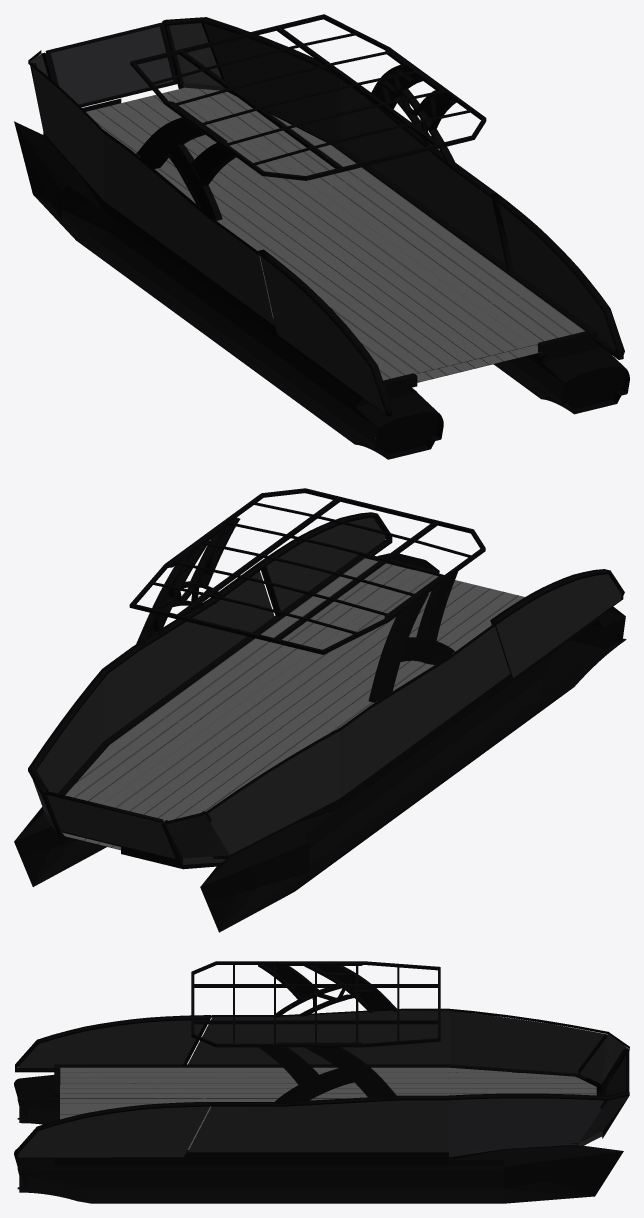
3 views of the same model, one above another, from view 1: azimuth 30°, elevation 25°; view 2: azimuth 150°, elevation 25°; view 3: azimuth 270°, elevation 25° (orthographic). The views are drawn at different scales.
Parts seen in each view (by area): view 1: Plane.025, Plane.016, Plane.003, Plane.004, Plane.018, Plane.023, Object.023, Object.024, Plane.006, New arches nad roof export 11m v2.077, Plane.017, Object.014 (+27 smaller); view 2: Plane.025, Plane.016, Plane.003, Plane.017, Plane.018, Object.023, New arches nad roof export 11m v2.077, Plane.006, Object.024, Plane.023, Object.029, Plane.004 (+26 smaller); view 3: Plane.025, Plane.003, Plane.016, Plane.004, Object.002, Object.003, Plane.006, Plane.017, Plane.018, Object.007, Object.014, New arches nad roof export 11m v2.077 (+24 smaller).
Boxes of the visible parts, bbox=[...] form: Plane.025: bbox=[86, 87, 585, 380]; Plane.016: bbox=[103, 133, 274, 325]; Plane.003: bbox=[339, 79, 505, 264]; Plane.004: bbox=[209, 25, 339, 140]; Plane.018: bbox=[260, 256, 385, 413]; Plane.023: bbox=[51, 26, 173, 104]; Object.023: bbox=[170, 297, 328, 403]; Object.024: bbox=[63, 219, 221, 324]; Plane.006: bbox=[499, 204, 615, 349]; New arches nad roof export 11m v2.077: bbox=[130, 14, 486, 180]; Plane.017: bbox=[32, 67, 103, 199]; Object.014: bbox=[224, 88, 597, 355]; Plane.025: bbox=[65, 558, 524, 821]; Plane.016: bbox=[339, 626, 510, 798]; Plane.003: bbox=[103, 571, 274, 740]; Plane.017: bbox=[208, 731, 339, 856]; Plane.018: bbox=[496, 574, 621, 677]; Object.023: bbox=[365, 712, 523, 817]; New arches nad roof export 11m v2.077: bbox=[129, 488, 485, 654]; Plane.006: bbox=[261, 517, 385, 615]; Object.024: bbox=[265, 790, 415, 896]; Plane.023: bbox=[46, 795, 175, 858]; Object.029: bbox=[473, 638, 626, 739]; Plane.004: bbox=[37, 680, 103, 793]; Plane.025: bbox=[60, 1067, 596, 1149]; Plane.003: bbox=[188, 1100, 448, 1152]; Plane.016: bbox=[188, 1010, 448, 1064]; Plane.004: bbox=[449, 1098, 604, 1157]; Object.002: bbox=[174, 1160, 338, 1203]; Object.003: bbox=[339, 1160, 503, 1203]; Plane.006: bbox=[18, 1106, 209, 1157]; Plane.017: bbox=[449, 1011, 607, 1073]; Plane.018: bbox=[18, 1020, 205, 1067]; Object.007: bbox=[14, 1149, 174, 1203]; Object.014: bbox=[54, 1143, 578, 1160]; New arches nad roof export 11m v2.077: bbox=[191, 961, 440, 1047].
Size of the model in its own units: 3.99 by 3.35 by 11.24.
4 materials, 1 textured.
